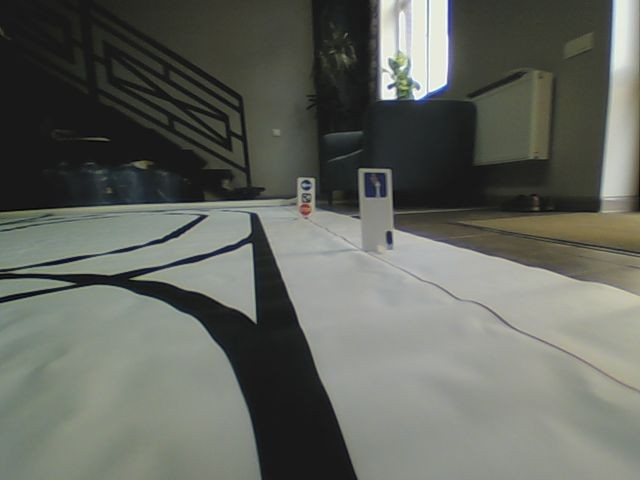priority_movement: (362, 171, 388, 199)
